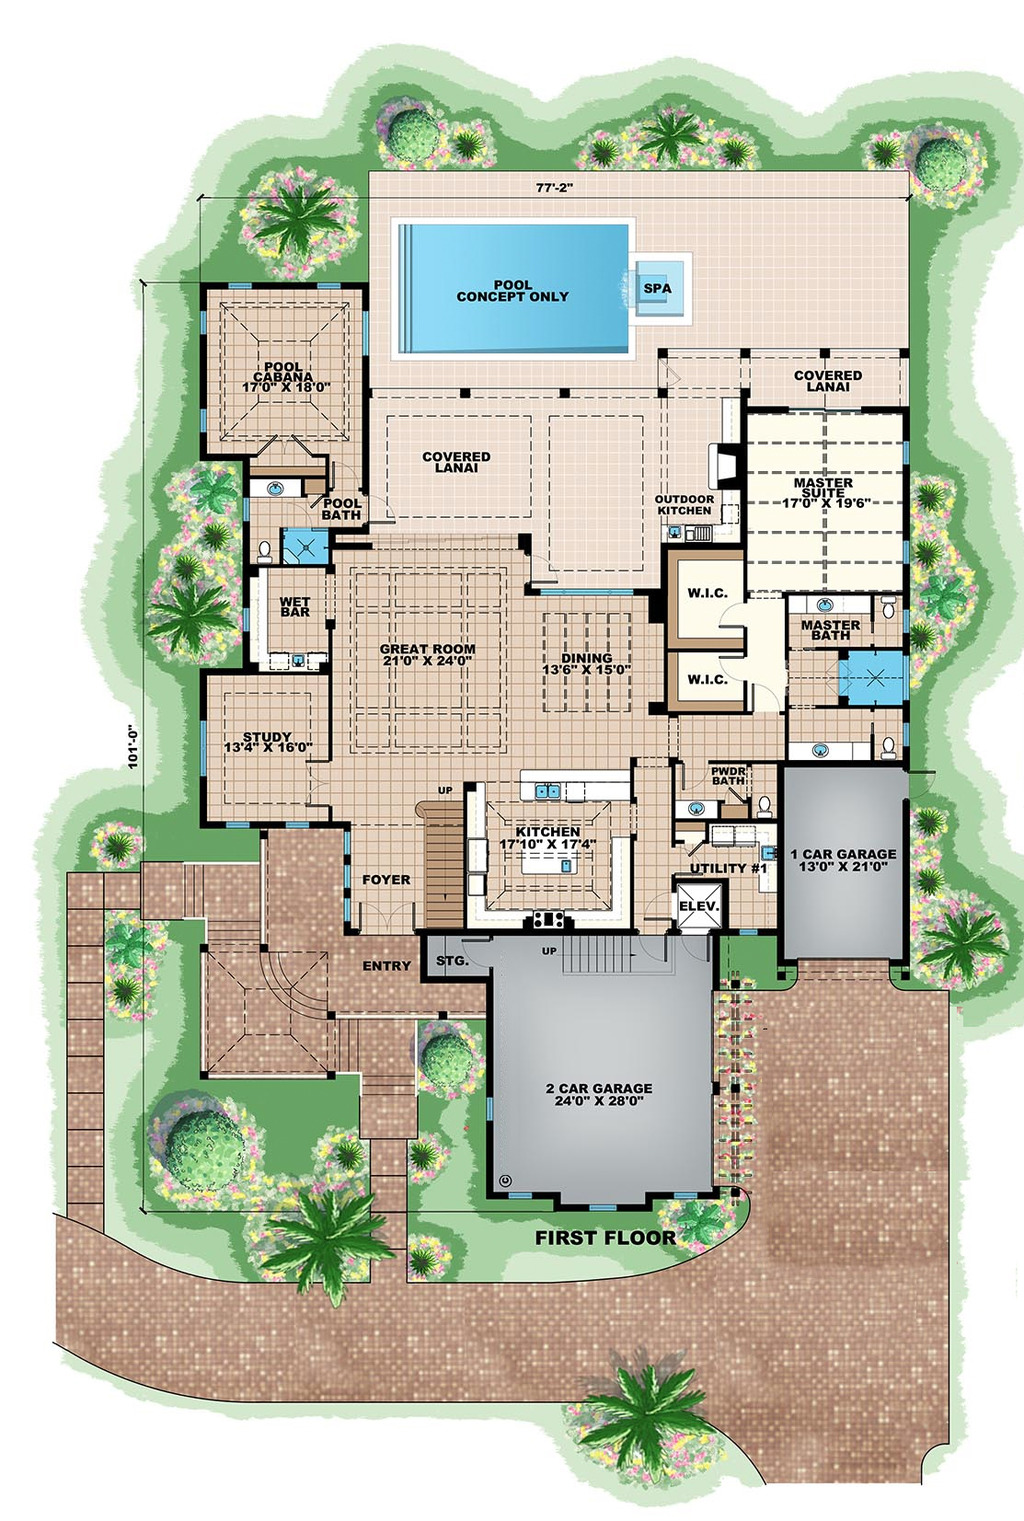door: (721, 597, 750, 639), (746, 682, 779, 718)
small_sink: (789, 593, 871, 619), (789, 737, 853, 760)
stairs: (403, 792, 469, 930), (549, 935, 646, 980)
windows: (334, 822, 359, 929)
